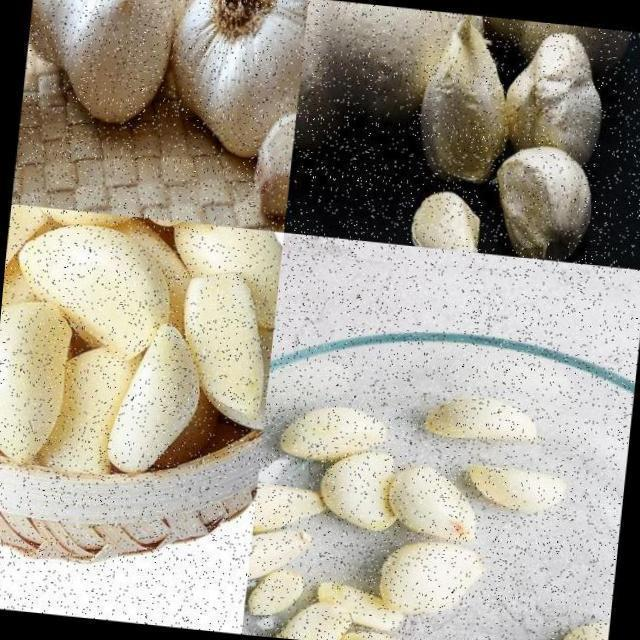garlic: (242, 377, 575, 640), (0, 202, 284, 487), (292, 0, 479, 171), (18, 0, 196, 146), (162, 0, 308, 163), (418, 12, 523, 184), (501, 31, 618, 162), (484, 136, 600, 263), (250, 96, 297, 222), (408, 184, 488, 252), (555, 611, 610, 640)
